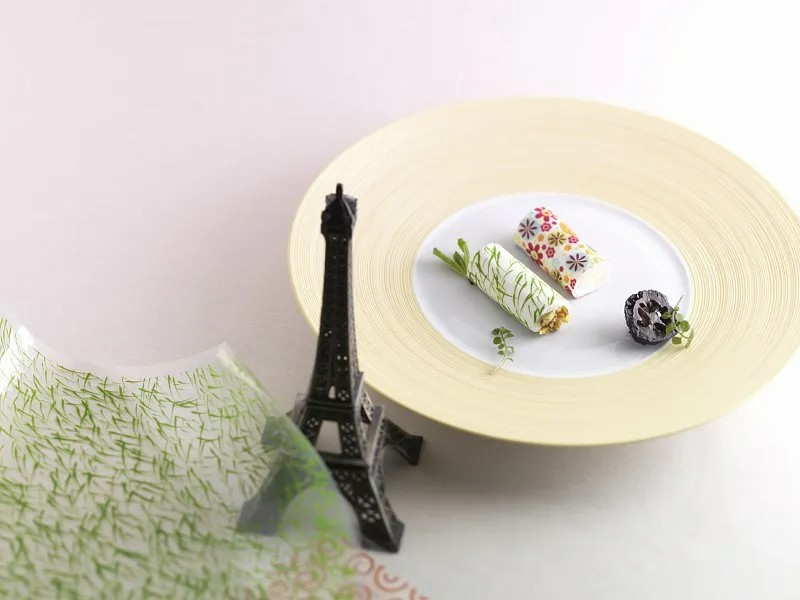Eiffel: (233, 184, 425, 554)
